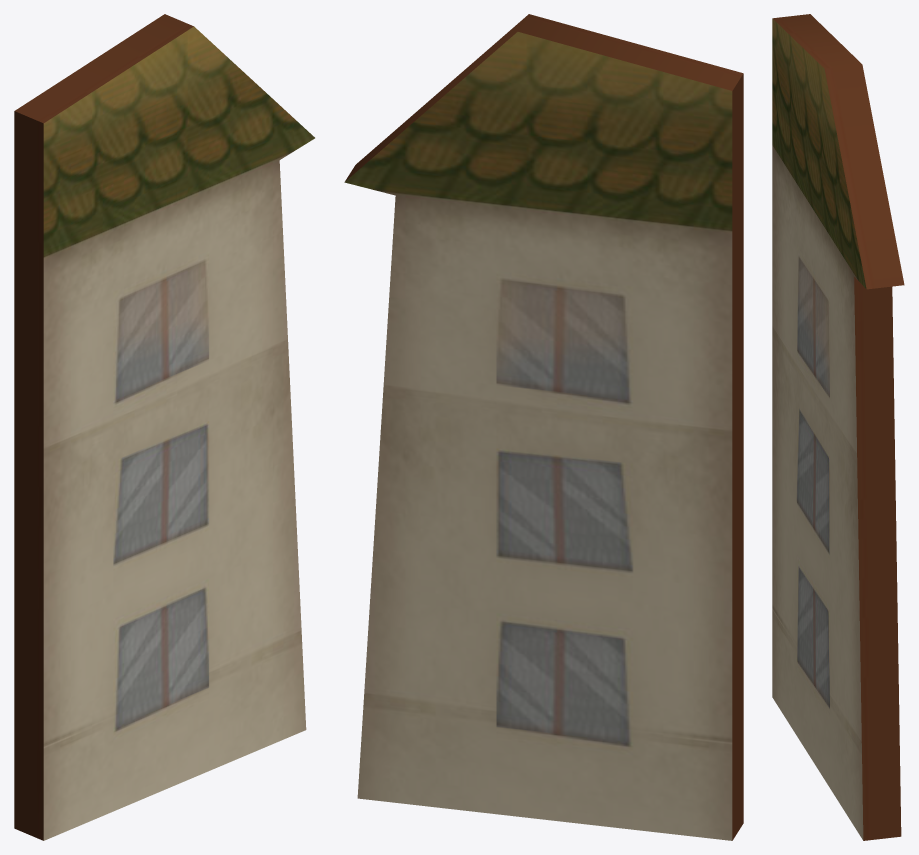
The model's file is building2.FBX.
The picture shows the model from 3 angles, left to right: view 1: azimuth 30°, elevation 25°; view 2: azimuth 150°, elevation 25°; view 3: azimuth 270°, elevation 25°; orthographic projection. The views are drawn at different scales.
Parts seen in each view (by area): view 1: Box122; view 2: Box122; view 3: Box122.
Boxes of the visible parts, box(x1,y1,x2,y2) form: Box122: box(14, 14, 314, 840); Box122: box(344, 14, 743, 840); Box122: box(772, 14, 904, 840).
Size of the model in its own units: 17.53 by 38.02 by 6.4.
